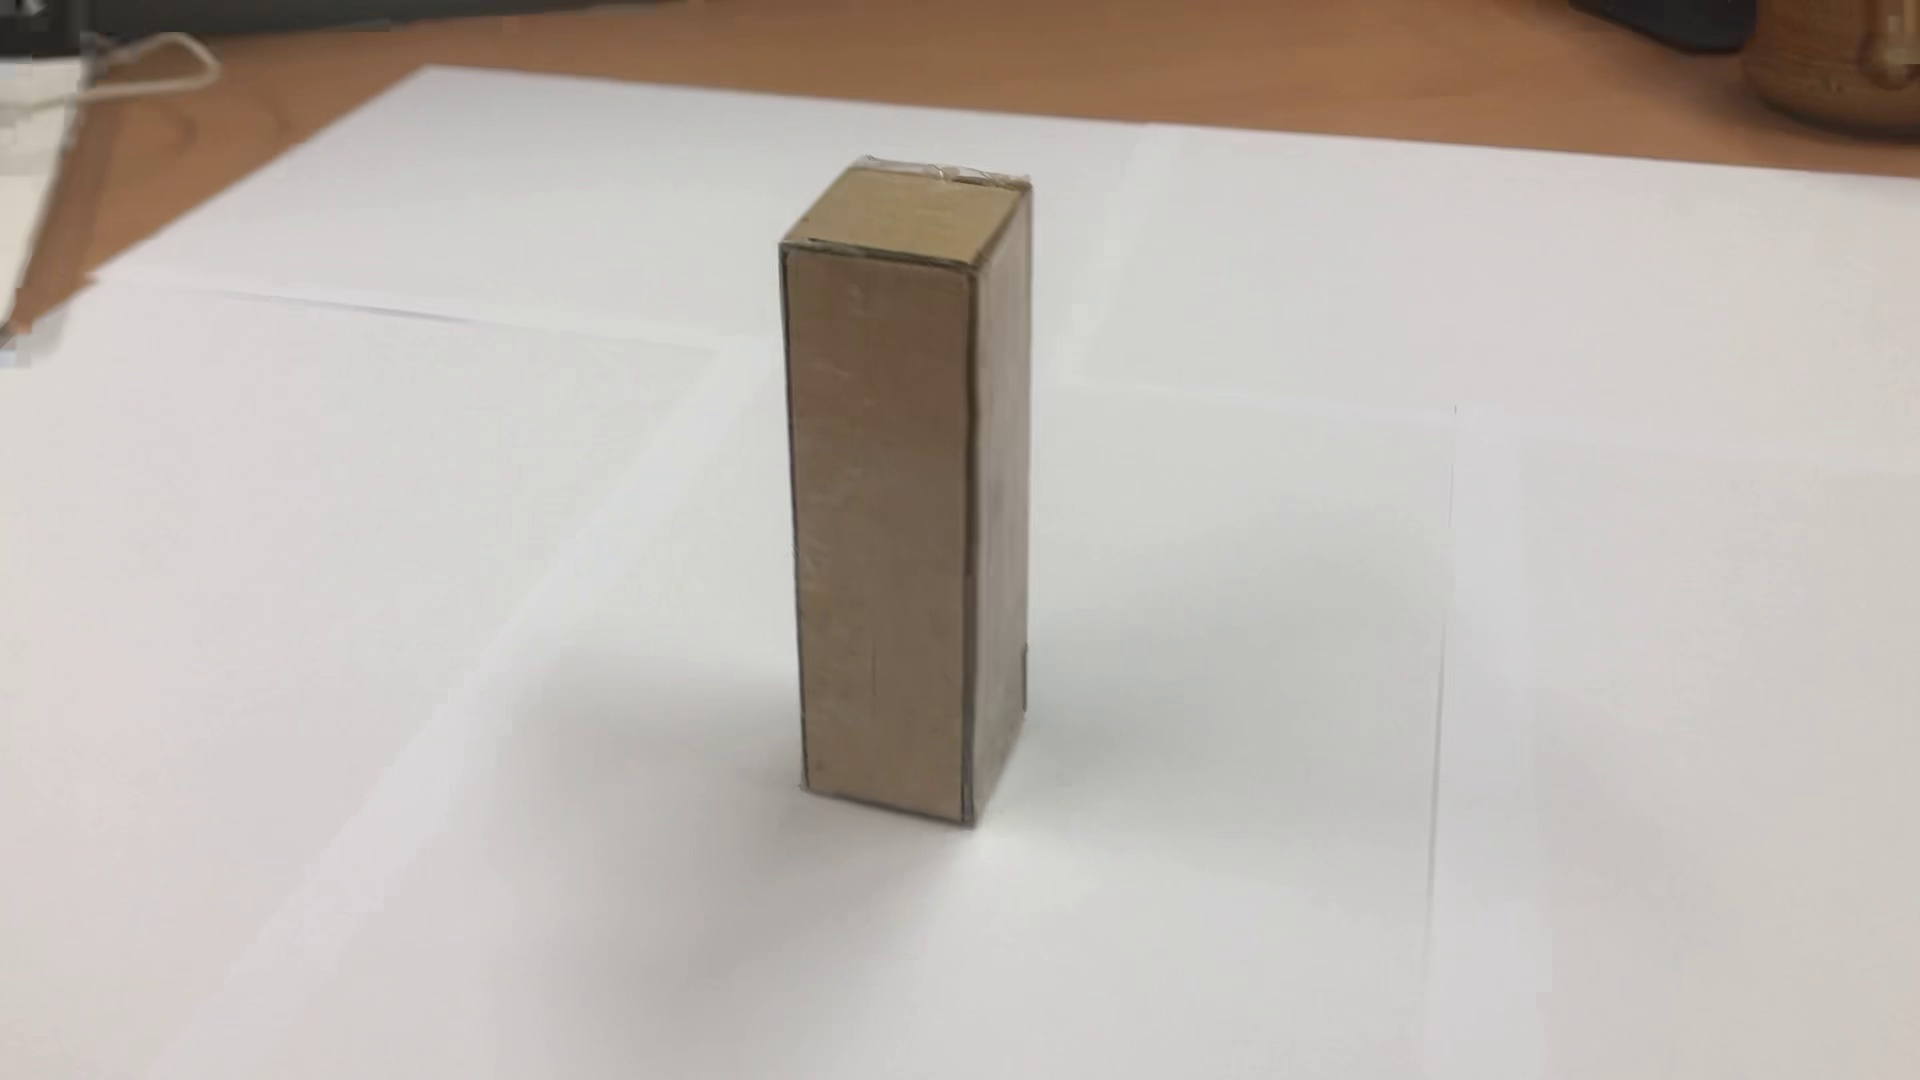box: (746, 152, 1076, 848)
